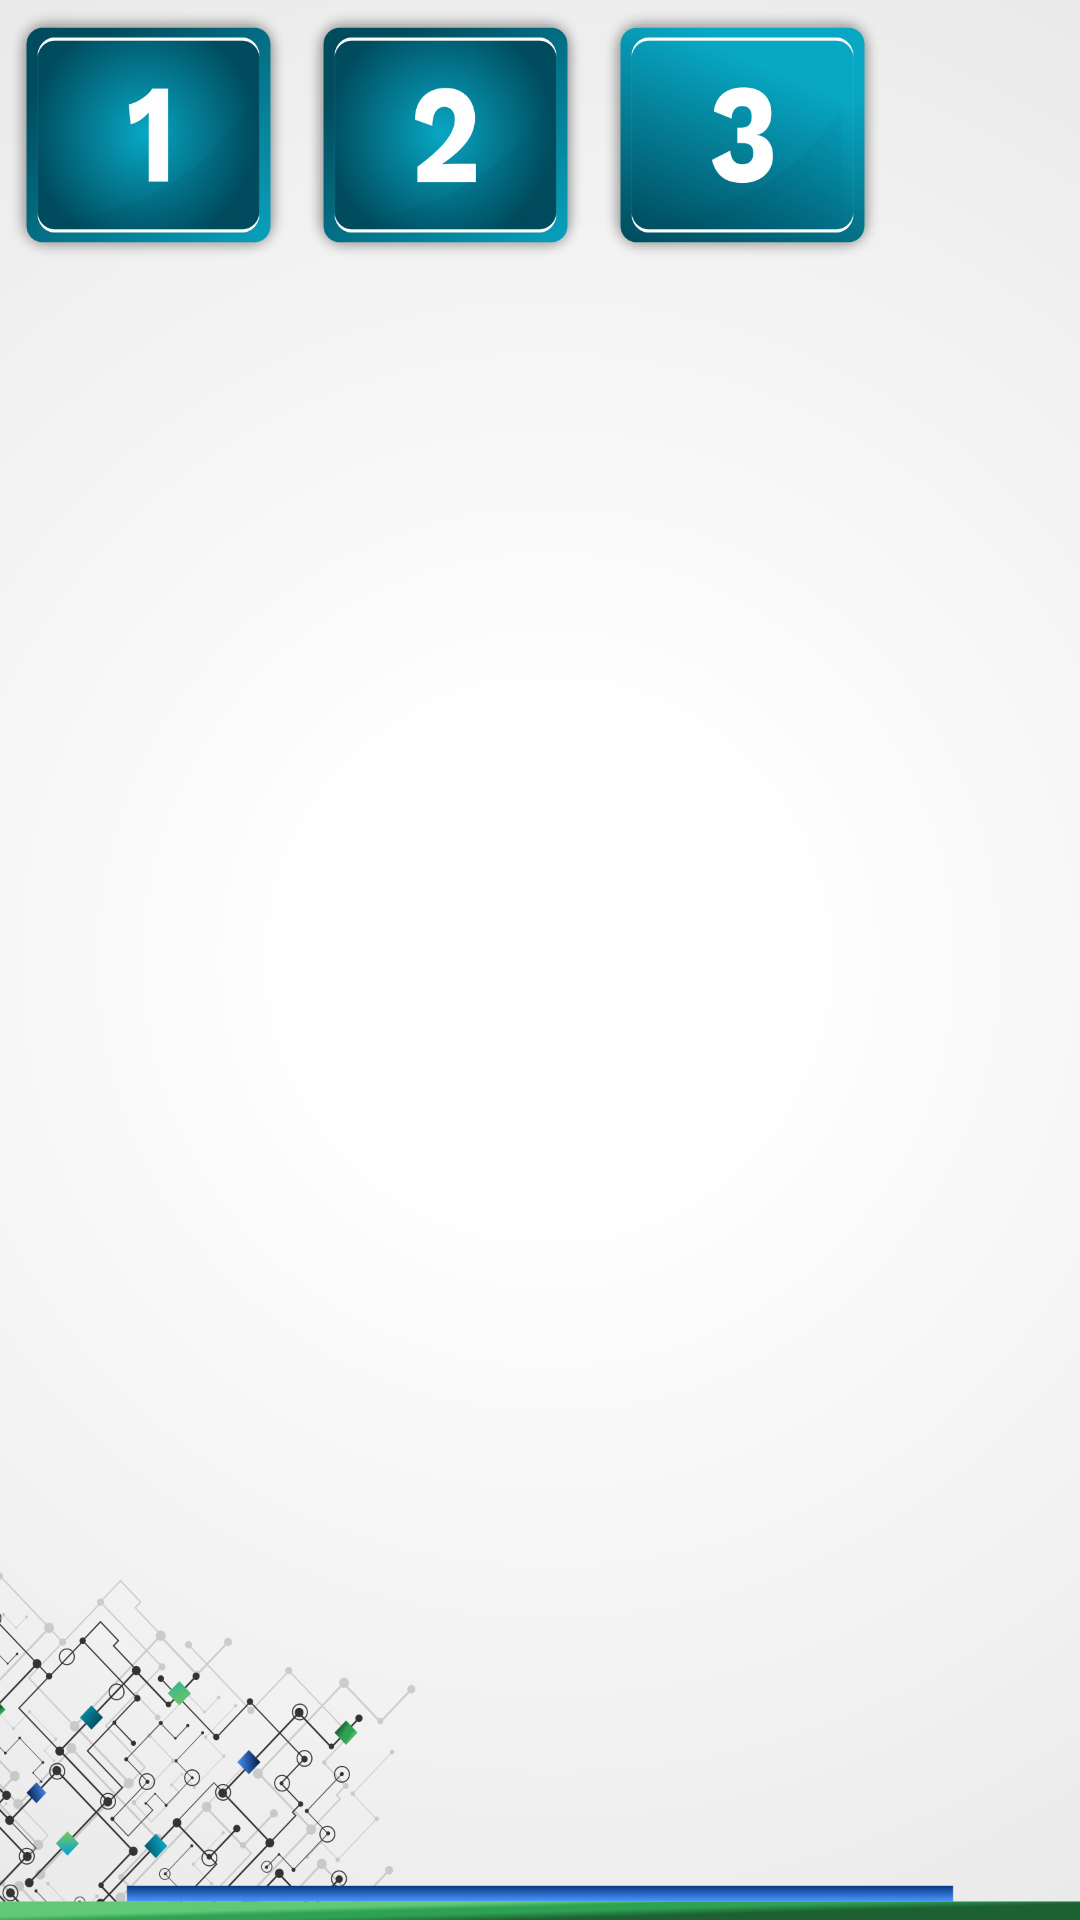

Icon bounding boxes for this 1080x1920 phone screenshot, format (x1, y1, x2, y2):
oneblue: (19, 20, 277, 249)
threeblue: (613, 20, 871, 249)
twoblue: (314, 18, 576, 249)
